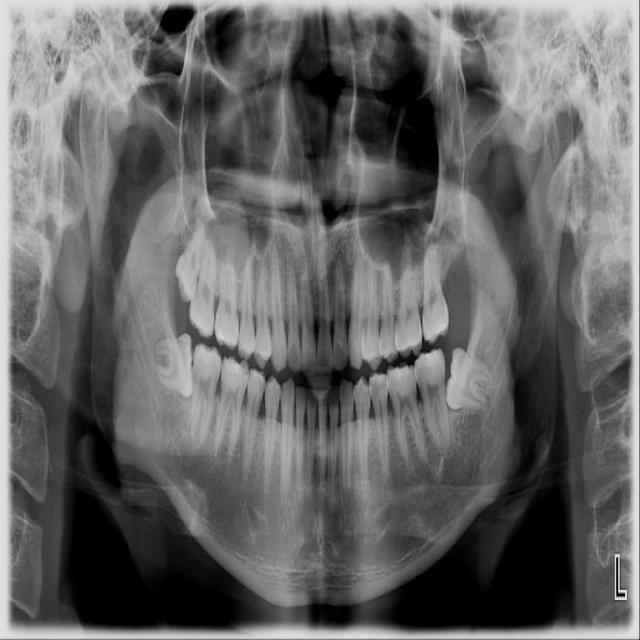impacted tooth: (445, 347, 494, 416), (172, 215, 206, 302), (154, 334, 195, 398)
